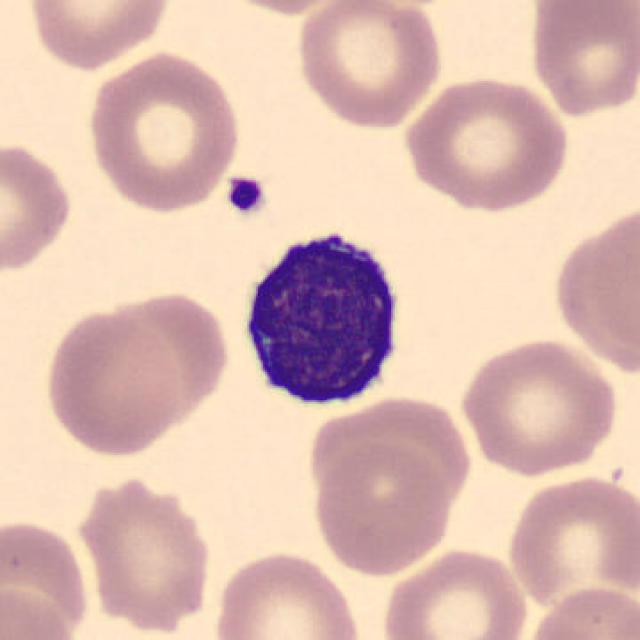Lymphocyte: (231, 217, 414, 418)
Platelets: (222, 172, 270, 218)
RBC: (82, 48, 245, 215), (400, 73, 574, 214), (455, 333, 621, 478), (71, 470, 217, 634), (39, 300, 185, 460), (292, 0, 448, 132), (309, 439, 457, 578), (306, 391, 474, 513), (90, 287, 226, 433), (503, 471, 638, 614), (547, 196, 640, 381), (378, 545, 532, 640), (209, 546, 364, 640), (524, 2, 638, 120), (0, 515, 94, 640), (23, 0, 174, 72), (0, 136, 76, 277), (521, 582, 638, 640), (0, 582, 78, 640), (203, 0, 357, 18)
